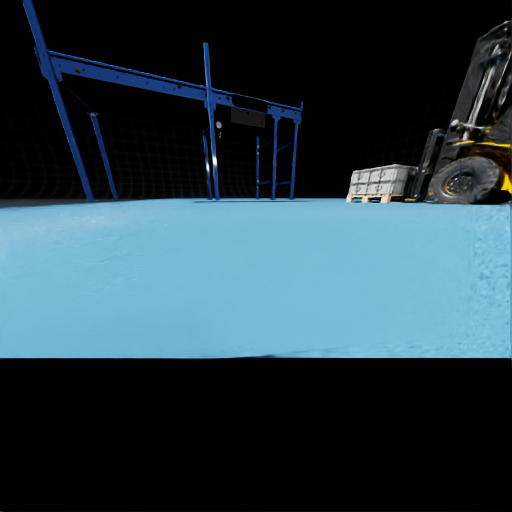transportation_area: (367, 180, 412, 194), (382, 166, 383, 169)
